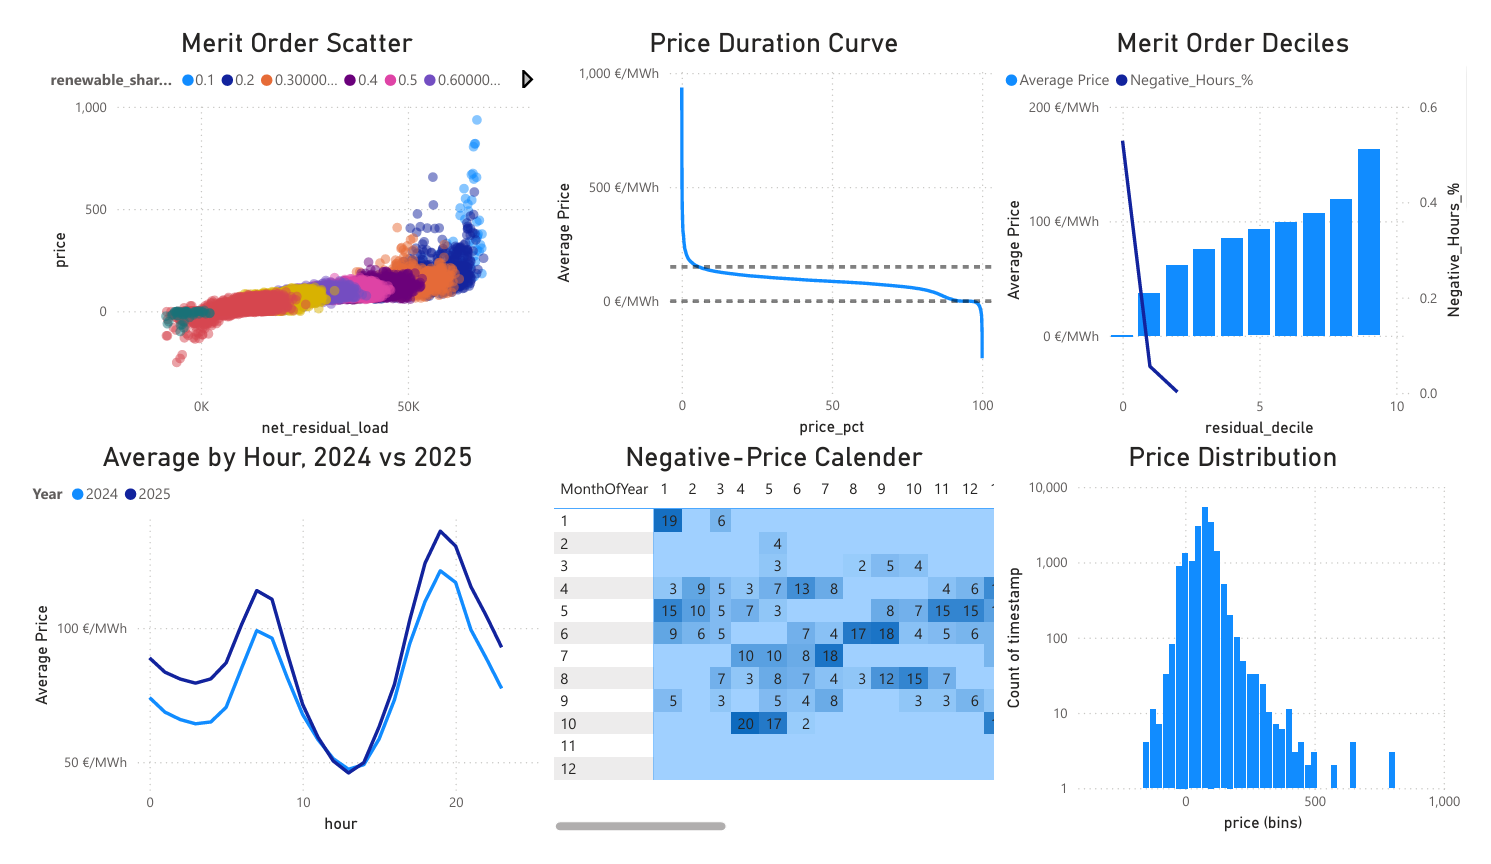

Layout of this report page (visuals, bound fields, positions):
{"tool":"powerbi","page":{"name":"Price Analysis","canvas":[1280,720],"ordinal":2},"visuals":[{"type":"scatterChart","title":"Merit Order Scatter","fields":{"X":["Market.net_residual_load"],"Y":["Market.price"],"Series":["Market.renewable_share (bins)"]},"box":[16,0,448,368],"z":0},{"type":"lineClusteredColumnComboChart","title":"Merit Order Deciles","fields":{"Category":["Market.residual_decile"],"Y":["Measurestbl.Avg_Price"],"Y2":["Measurestbl.Negative_Hours_%"]},"box":[864,0,416,368],"z":1000},{"type":"lineChart","title":"Price Duration Curve","fields":{"Category":["Market.price_pct"],"Y":["Measurestbl.Avg_Price"]},"box":[464,0,400,368],"z":2000},{"type":"lineChart","title":"Average by Hour, 2024 vs 2025","fields":{"Category":["Market.hour"],"Y":["Measurestbl.Avg_Price"],"Series":["DateTable.Year"]},"box":[0,368,464,352],"z":3000},{"type":"pivotTable","title":"Negative-Price Calender","fields":{"Rows":["DateTable.MonthOfYear"],"Columns":["DateTable.DayOfMonth"],"Values":["Measurestbl.Negative_Hours"]},"box":[464,368,400,352],"z":4000},{"type":"clusteredColumnChart","title":"Price Distribution","fields":{"Category":["Market.price (bins)"],"Y":["CountNonNull(Market.timestamp)"]},"box":[864,368,416,352],"z":5000}]}

Visuals, with their boxes in screenshot pixels (x1, y1, x2, y2), scaled from the page's 1280x720 canvas onto the 1491x864 screenshot:
"Merit Order Scatter" scatterChart: [19, 0, 540, 442]
"Merit Order Deciles" lineClusteredColumnComboChart: [1006, 0, 1490, 442]
"Price Duration Curve" lineChart: [540, 0, 1006, 442]
"Average by Hour, 2024 vs 2025" lineChart: [0, 442, 540, 863]
"Negative-Price Calender" pivotTable: [540, 442, 1006, 863]
"Price Distribution" clusteredColumnChart: [1006, 442, 1490, 863]
